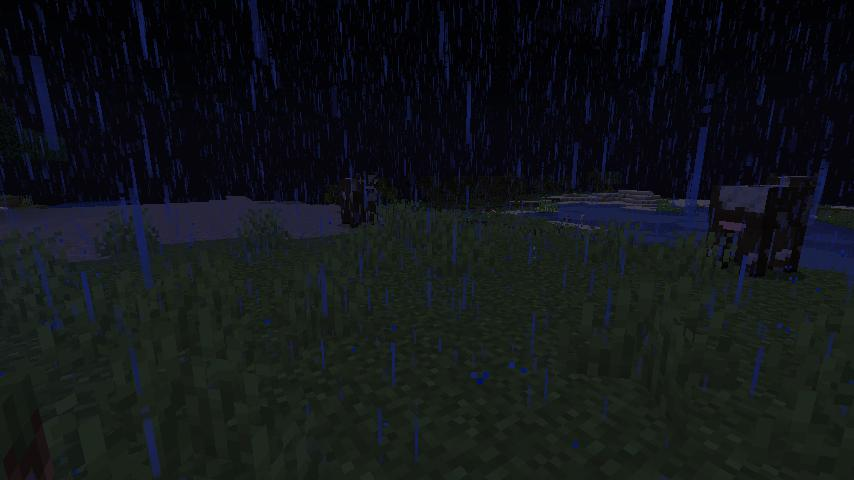cow: (707, 169, 817, 284), (335, 171, 382, 230)
skeleton: (564, 213, 572, 226), (579, 214, 586, 228)
